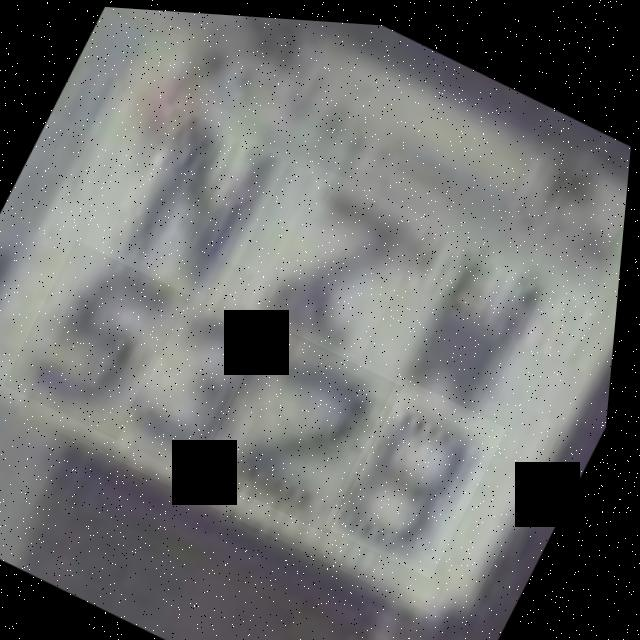2: (200, 314, 413, 533)
3: (92, 265, 320, 496)
5: (6, 236, 199, 441)
8: (329, 366, 517, 575)
N: (98, 82, 303, 308), (385, 206, 569, 413)
Z: (242, 154, 437, 358)
